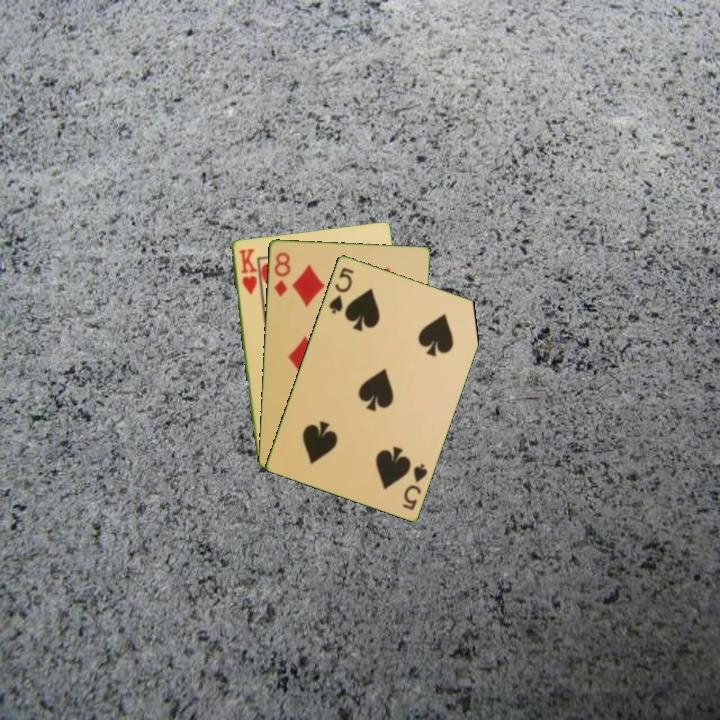5s: (399, 460, 430, 513), (325, 264, 356, 316)
8d: (270, 249, 293, 299)
Kh: (235, 245, 259, 297)
